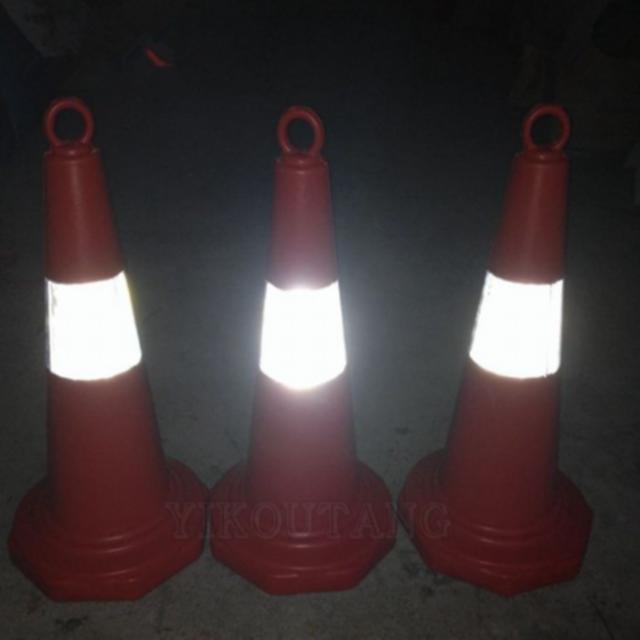reflective_cone: (11, 97, 212, 601), (397, 93, 596, 598), (215, 101, 398, 596)
